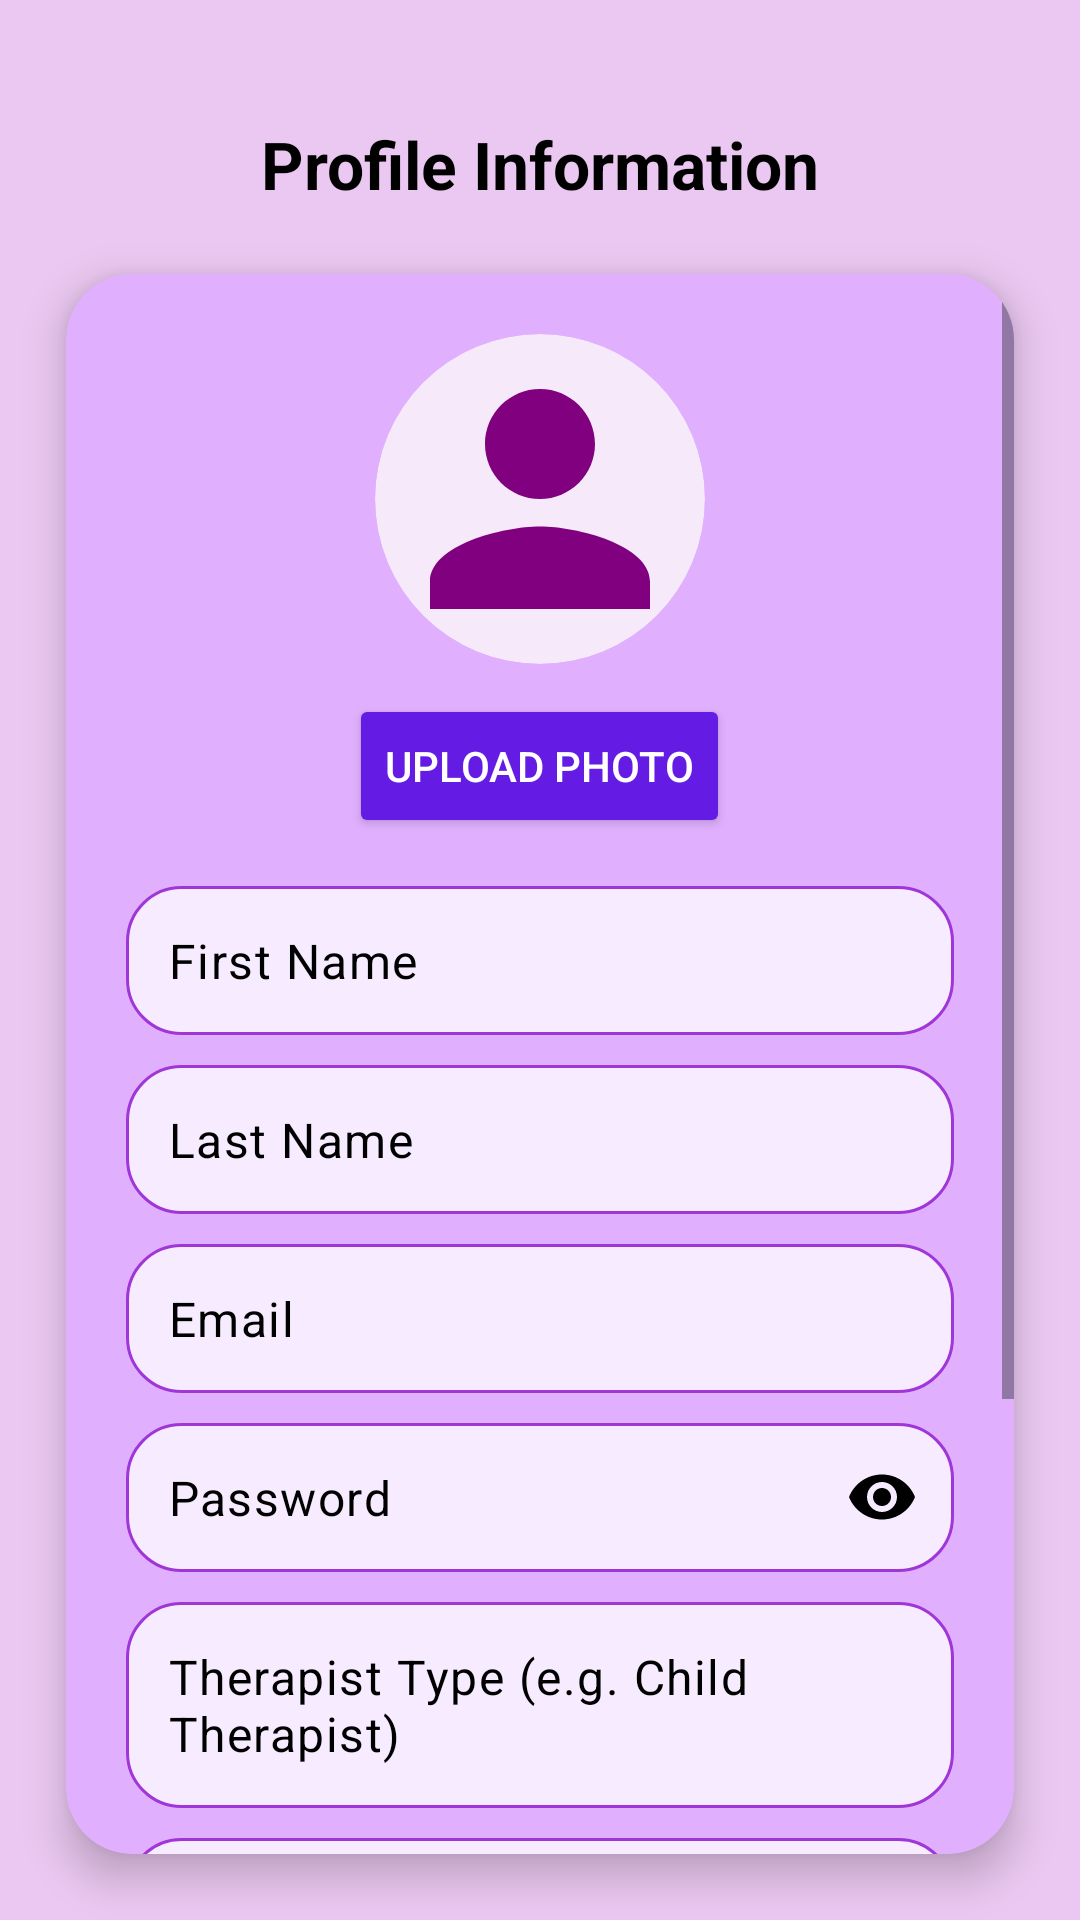

Screen size 1080 x 1920. Icon name, then its box in pixels as (x1, y1, x2, y2):
account circle: (375, 334, 705, 664)
